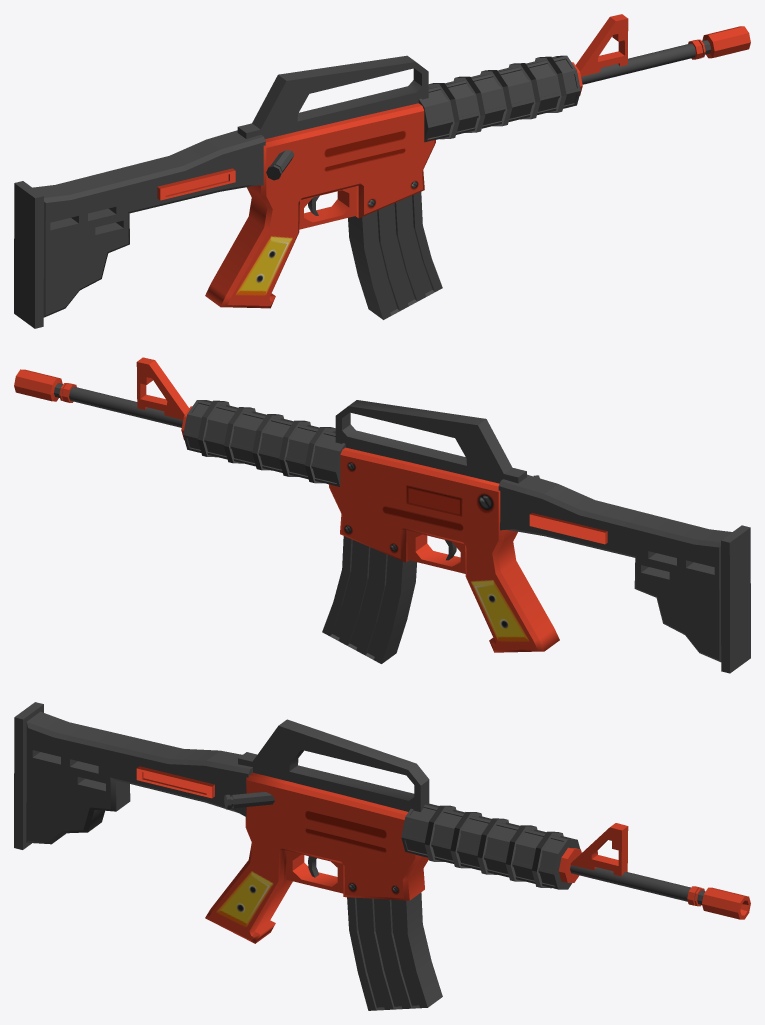
Rendered from sung.fbx.
3 views of the same model, one above another, from view 1: azimuth 30°, elevation 25°; view 2: azimuth 150°, elevation 25°; view 3: azimuth 330°, elevation 25° (orthographic).
Visible parts, largest first — view 1: Plane002; view 2: Plane002; view 3: Plane002.
Part boxes in pixels (x1,y1,x2,y2): Plane002: (14, 14, 750, 328); Plane002: (14, 357, 750, 673); Plane002: (14, 702, 750, 1010).
Size of the model in its own units: 25.4 by 8.75 by 2.56.
Materials: 1 (1 with a texture image).
